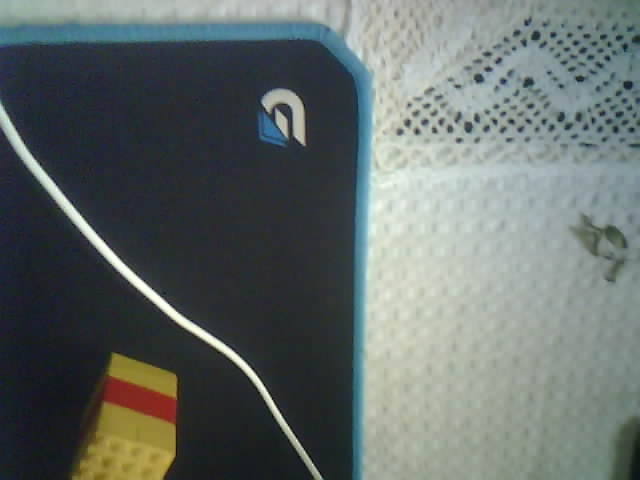lego: (69, 352, 179, 480)
